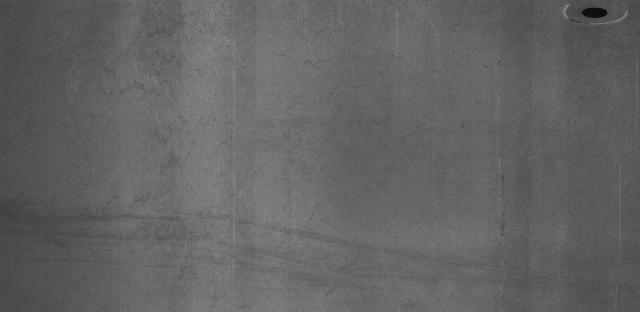punching_hole: (579, 4, 610, 22)
silk_spot: (88, 9, 244, 275), (264, 5, 400, 170)
